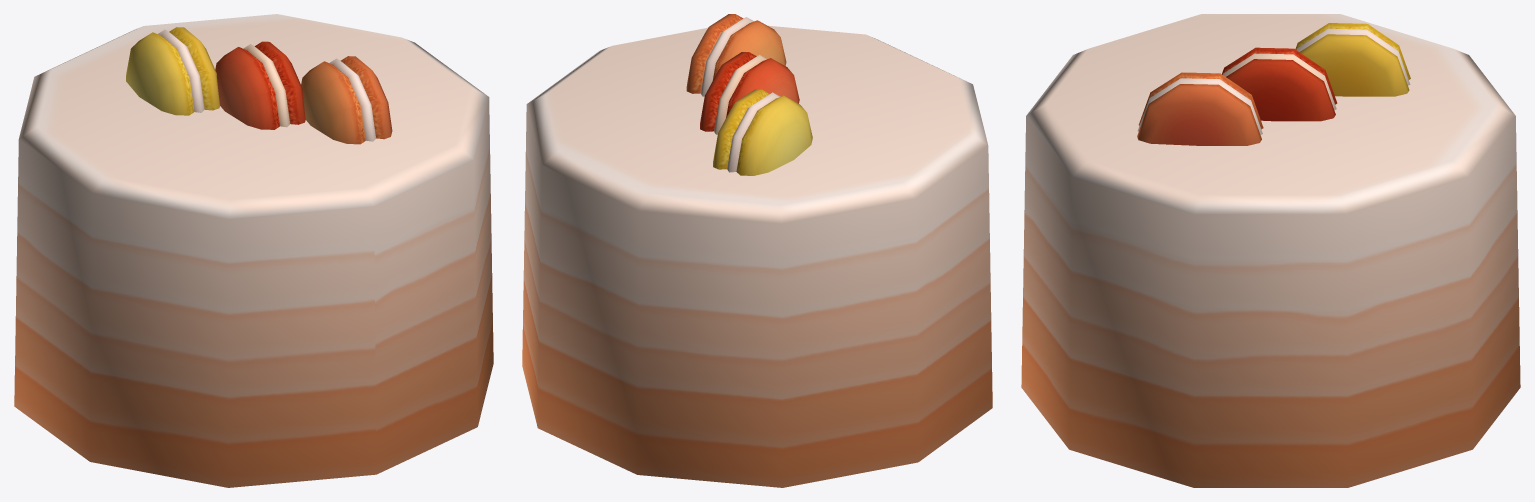
The model's file is SunsetCake_Whole.fbx.
3 views of the same model, side by side, from view 1: azimuth 30°, elevation 25°; view 2: azimuth 150°, elevation 25°; view 3: azimuth 270°, elevation 25° (orthographic). The views are drawn at different scales.
Visible parts, largest first — view 1: SunsetCake_Whole; view 2: SunsetCake_Whole; view 3: SunsetCake_Whole.
Part boxes in pixels (x1,y1,x2,y2): SunsetCake_Whole: (14,14,493,487); SunsetCake_Whole: (522,14,992,487); SunsetCake_Whole: (1021,14,1520,487).
Bounding box in the file's own units: 77.51 × 60.85 × 81.5.
